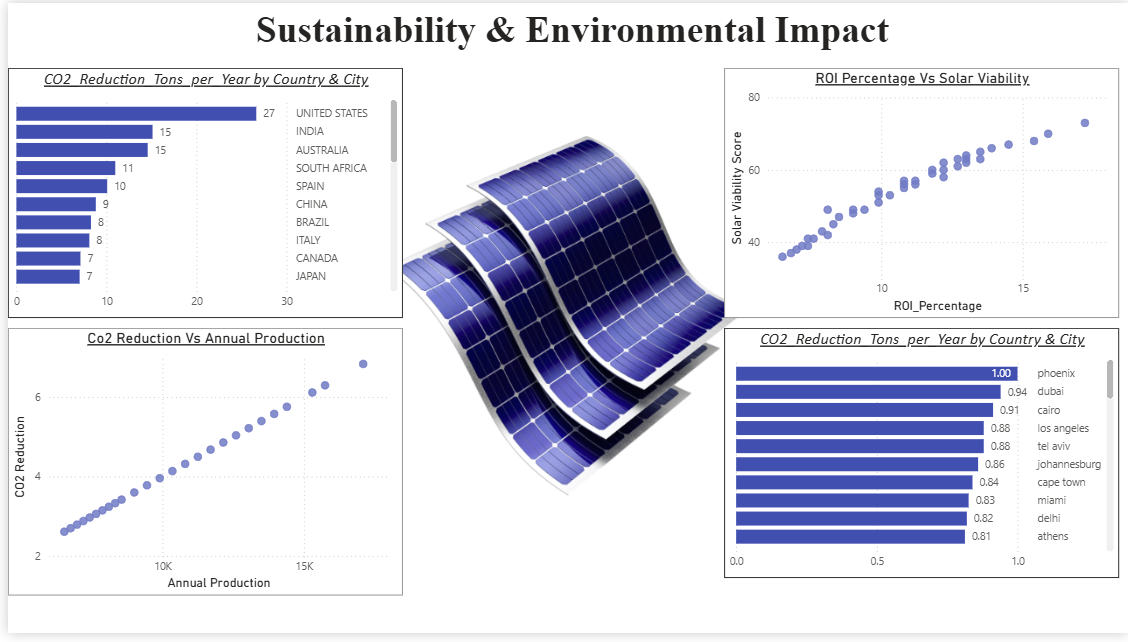

Layout of this report page (visuals, bound fields, positions):
{"tool":"powerbi","page":{"name":"Sustainability & Environmental Impact","canvas":[1280,720],"ordinal":2},"visuals":[{"type":"textbox","box":[10,0,1270,73.8],"z":0},{"type":"barChart","title":"CO2_Reduction_Tons_per_Year by Country & City","fields":{"Y":["Sum(solar_project solar_energy_worldwide.CO2_Reduction_Tons_per_Year)"],"Category":["solar_project solar_energy_worldwide.Country","solar_project solar_energy_worldwide.City"]},"box":[0,74.3,451.4,285.7],"z":1000},{"type":"scatterChart","title":"ROI Percentage Vs Solar Viability ","fields":{"X":["solar_project solar_energy_worldwide.ROI_Percentage"],"Y":["solar_project solar_energy_worldwide.Solar_Viability_Score"]},"box":[818.6,74.3,451.4,285.7],"z":2000},{"type":"scatterChart","title":"Co2 Reduction Vs Annual Production","fields":{"X":["solar_project solar_energy_worldwide.Avg_Annual_Production_kWh"],"Y":["solar_project solar_energy_worldwide.CO2_Reduction_Tons_per_Year"]},"box":[0,371.4,451.4,305.7],"z":3000},{"type":"barChart","title":"CO2_Reduction_Tons_per_Year by Country & City","fields":{"Category":["solar_project solar_energy_worldwide.City"],"Y":["Measure Table.Sustainability Index"]},"box":[818.6,371.4,451.4,285.7],"z":4000}]}

Visuals, with their boxes in screenshot pixels (x1, y1, x2, y2), scaled from the page's 1280x720 canvas onto the 1128x642 screenshot:
textbox: (left=9, top=0, right=1127, bottom=66)
"CO2_Reduction_Tons_per_Year by Country & City" barChart: (left=0, top=66, right=398, bottom=321)
"ROI Percentage Vs Solar Viability " scatterChart: (left=721, top=66, right=1119, bottom=321)
"Co2 Reduction Vs Annual Production" scatterChart: (left=0, top=331, right=398, bottom=604)
"CO2_Reduction_Tons_per_Year by Country & City" barChart: (left=721, top=331, right=1119, bottom=586)
